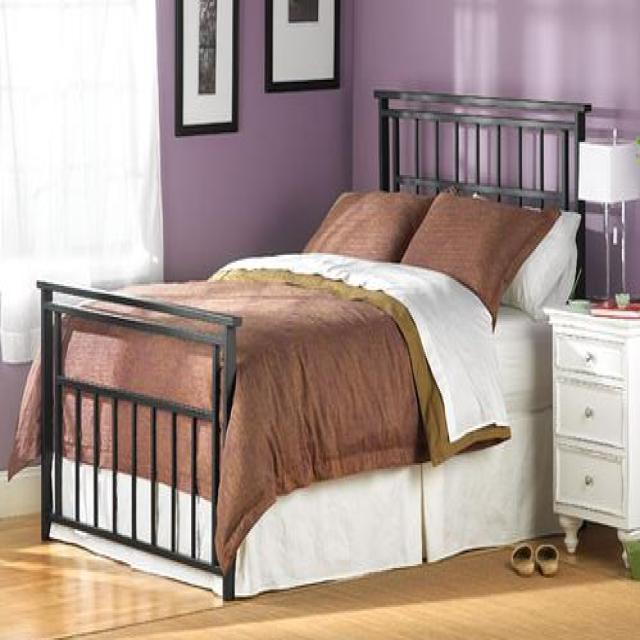bed: (34, 90, 586, 607)
